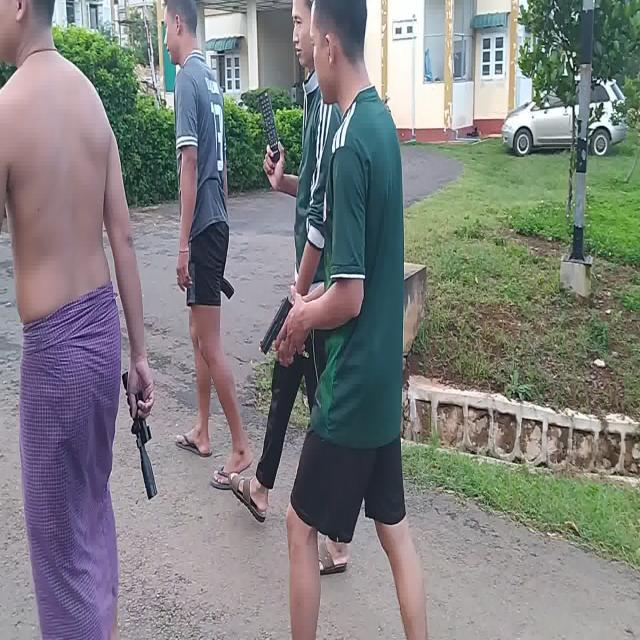gun: (256, 298, 292, 352)
